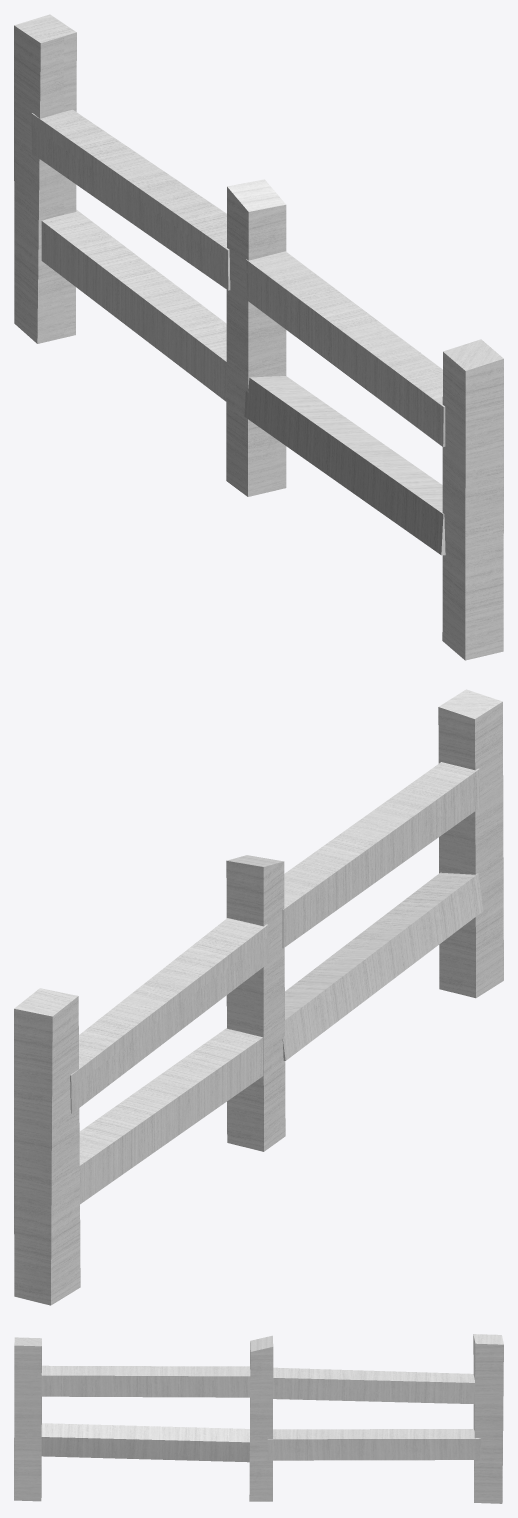
File: fence.gltf
The picture shows the model from 3 angles, top to bottom: view 1: azimuth 30°, elevation 25°; view 2: azimuth 150°, elevation 25°; view 3: azimuth 270°, elevation 25°; orthographic projection. The views are drawn at different scales.
Visible parts, largest first — view 1: Object_2; view 2: Object_2; view 3: Object_2.
Part boxes in pixels (left/top/right/bottom): Object_2: left=14, top=14, right=503, bottom=660; Object_2: left=14, top=689, right=503, bottom=1305; Object_2: left=14, top=1334, right=503, bottom=1503.
Bounding box in the file's own units: 0.2541 × 1.51 × 4.18.
1 material, 1 textured.
